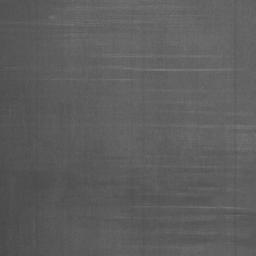Waist folding: (55, 53, 243, 83), (153, 110, 256, 134), (76, 4, 195, 24), (133, 204, 256, 216), (135, 233, 231, 247), (134, 164, 239, 173), (190, 186, 231, 193), (205, 149, 256, 152), (48, 24, 84, 27), (0, 66, 17, 71)
